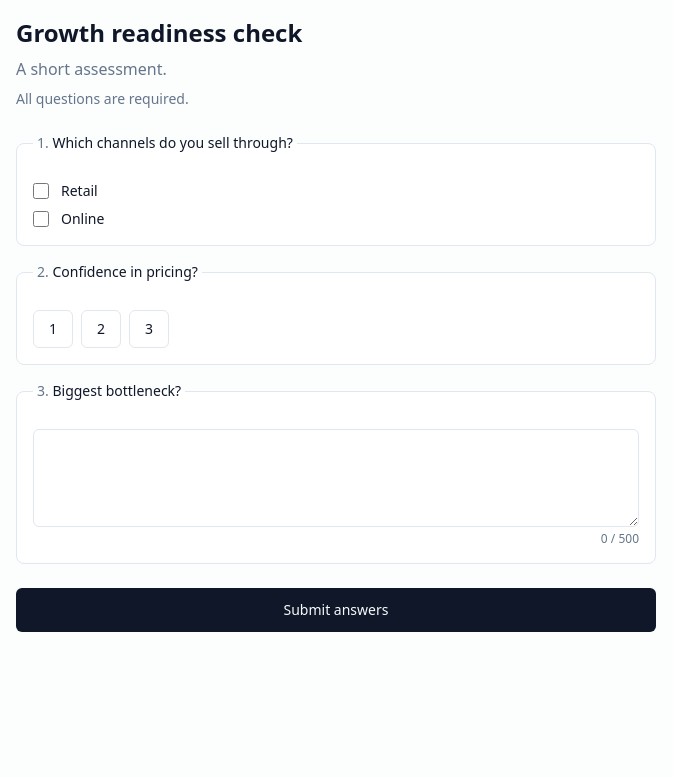
Test: PublicQuestionnairePage › blocks submission until every question is answered
Check: the heading "Growth readiness check" is shown, box [16,16,302,49]
Click the button "Submit answers" at (336, 610), box [16,588,656,632]
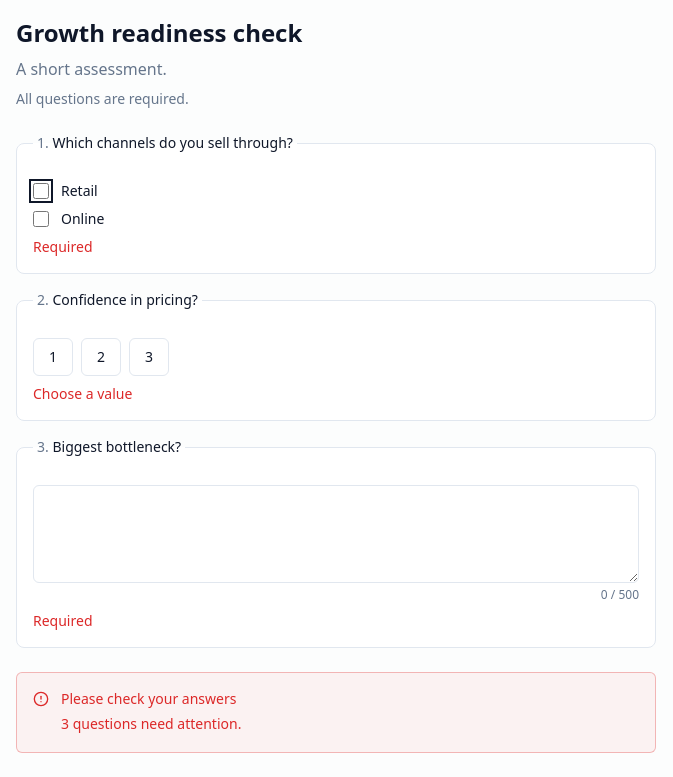
Check: the text "3 questions need attention." is shown, box [61,713,241,736]
